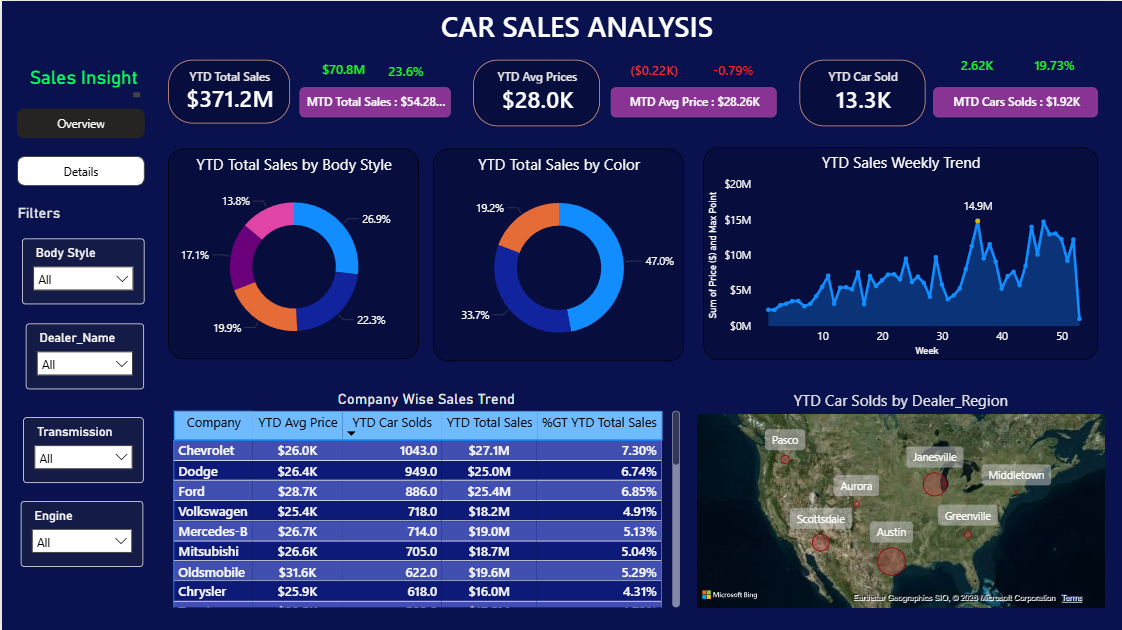

The page's visual inventory and layout, read from the dashboard file:
{"tool":"powerbi","page":{"name":"Overview","canvas":[1280,720],"ordinal":0},"visuals":[{"type":"card","title":"YTD Total Sales","fields":{"Values":["car_data.YTD Total Sales"]},"box":[190,67.3,139.1,72.7],"z":0},{"type":"card","fields":{"Values":["car_data.Sales Difference"]},"box":[340,62.7,100.9,35.5],"z":1000},{"type":"card","fields":{"Values":["car_data.YOY Sales Growth"]},"box":[411.8,63.6,100.9,35.5],"z":2000},{"type":"card","fields":{"Values":["car_data.MTD KPI"]},"box":[340,98.2,172.7,34.5],"z":3000},{"type":"card","title":"YTD Avg Prices","fields":{"Values":["car_data.YTD Avg Price"]},"box":[539.1,67.3,144.5,76.4],"z":4000},{"type":"card","fields":{"Values":["car_data.Avg Price Diff"]},"box":[695.5,63.6,100,34.5],"z":5000},{"type":"card","fields":{"Values":["car_data.YOY Avg Price Growth"]},"box":[785.5,63.6,100,34.5],"z":6000},{"type":"card","fields":{"Values":["car_data.MTD Avg Price KPI"]},"box":[695.3,97.9,189.6,34.7],"z":7000},{"type":"card","title":"YTD Car Sold","fields":{"Values":["car_data.YTD Car Solds"]},"box":[910.9,66.9,143.8,75.6],"z":8000},{"type":"card","fields":{"Values":["car_data.Cars Sold Diff"]},"box":[1064.6,58.2,100.4,34.7],"z":9000},{"type":"card","fields":{"Values":["car_data.YOY Car Sold Growth"]},"box":[1152.6,58.2,100.4,34.7],"z":10000},{"type":"card","fields":{"Values":["car_data.MTD Cars Sold KPI"]},"box":[1064.6,97.9,188.4,34.7],"z":11000},{"type":"areaChart","title":"YTD Sales Weekly Trend","fields":{"Y":["Sum(car_data.Price ($))","car_data.Max Point"],"Category":["Calendar Table.Week"]},"box":[801.9,167.3,451.1,242.9],"z":12000},{"type":"donutChart","fields":{"Category":["car_data.Body Style"],"Y":["car_data.YTD Total Sales"]},"box":[189.6,168.6,286.3,240.4],"z":13000},{"type":"donutChart","fields":{"Y":["car_data.YTD Total Sales"],"Category":["car_data.Color"]},"box":[493.3,168.6,286.3,242.9],"z":14000},{"type":"map","fields":{"Category":["car_data.Dealer_Region"],"Size":["car_data.YTD Car Solds"]},"box":[789.5,443.7,474.7,254.1],"z":15000},{"type":"tableEx","title":"Company Wise Sales Trend","fields":{"Values":["car_data.Company","car_data.YTD Avg Price","car_data.YTD Car Solds","car_data.YTD Total Sales1","car_data.YTD Total Sales"]},"box":[189.6,443.7,589.9,254.1],"z":16000},{"type":"textbox","title":"CAR SALES ANALYSIS ","box":[462.9,7.1,388.6,40],"z":17000},{"type":"slicer","fields":{"Values":["car_data.Body Style"]},"box":[23.1,270.9,139.7,75.3],"z":18000},{"type":"slicer","fields":{"Values":["car_data.Dealer_Name"]},"box":[26.7,368,134.8,75.3],"z":19000},{"type":"slicer","fields":{"Values":["car_data.Transmission"]},"box":[24.3,476.1,137.3,75.3],"z":20000},{"type":"slicer","fields":{"Values":["car_data.Engine"]},"box":[21.9,570.9,139.7,75.3],"z":21000},{"type":"textbox","title":"Filters","box":[13.5,231.9,149.7,20.9],"z":22000},{"type":"textbox","title":"Sales Insight","box":[24.5,69.9,138.7,45.4],"z":23000},{"type":"pageNavigator","box":[17.2,122.7,146,89.6],"z":24000}]}

Visuals, with their boxes in screenshot pixels (x1, y1, x2, y2), scaled from the page's 1280x720 canvas onto the 1122x630 screenshot:
"YTD Total Sales" card: left=167, top=59, right=288, bottom=122
card - car_data.Sales Difference: left=298, top=55, right=386, bottom=86
card - car_data.YOY Sales Growth: left=361, top=56, right=449, bottom=87
card - car_data.MTD KPI: left=298, top=86, right=449, bottom=116
"YTD Avg Prices" card: left=473, top=59, right=599, bottom=126
card - car_data.Avg Price Diff: left=610, top=56, right=697, bottom=86
card - car_data.YOY Avg Price Growth: left=689, top=56, right=776, bottom=86
card - car_data.MTD Avg Price KPI: left=609, top=86, right=776, bottom=116
"YTD Car Sold" card: left=798, top=59, right=925, bottom=125
card - car_data.Cars Sold Diff: left=933, top=51, right=1021, bottom=81
card - car_data.YOY Car Sold Growth: left=1010, top=51, right=1098, bottom=81
card - car_data.MTD Cars Sold KPI: left=933, top=86, right=1098, bottom=116
"YTD Sales Weekly Trend" areaChart: left=703, top=146, right=1098, bottom=359
donutChart - car_data.Body Style x car_data.YTD Total Sales: left=166, top=148, right=417, bottom=358
donutChart - car_data.YTD Total Sales x car_data.Color: left=432, top=148, right=683, bottom=360
map - car_data.Dealer_Region x car_data.YTD Car Solds: left=692, top=388, right=1108, bottom=611
"Company Wise Sales Trend" tableEx: left=166, top=388, right=683, bottom=611
"CAR SALES ANALYSIS " textbox: left=406, top=6, right=746, bottom=41
slicer - car_data.Body Style: left=20, top=237, right=143, bottom=303
slicer - car_data.Dealer_Name: left=23, top=322, right=142, bottom=388
slicer - car_data.Transmission: left=21, top=417, right=142, bottom=482
slicer - car_data.Engine: left=19, top=500, right=142, bottom=565
"Filters" textbox: left=12, top=203, right=143, bottom=221
"Sales Insight" textbox: left=21, top=61, right=143, bottom=101
pageNavigator: left=15, top=107, right=143, bottom=186
